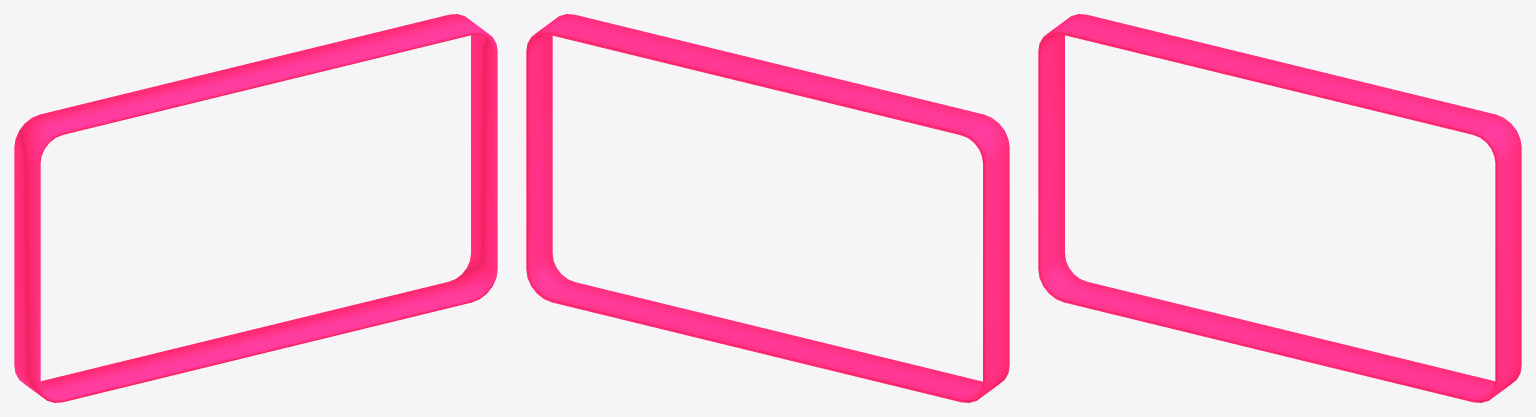
Rendered from Square_Rim_White.gltf.
3 views of the same model, side by side, from view 1: azimuth 30°, elevation 25°; view 2: azimuth 150°, elevation 25°; view 3: azimuth 330°, elevation 25° (orthographic).
Parts seen in each view (by area): view 1: Plane; view 2: Plane; view 3: Plane.
Boxes of the visible parts, x1=… form: Plane: x1=14, y1=14, x2=497, y2=402; Plane: x1=526, y1=14, x2=1009, y2=402; Plane: x1=1038, y1=14, x2=1521, y2=402.
Bounding box in the file's own units: 3.56 × 2 × 0.3.
